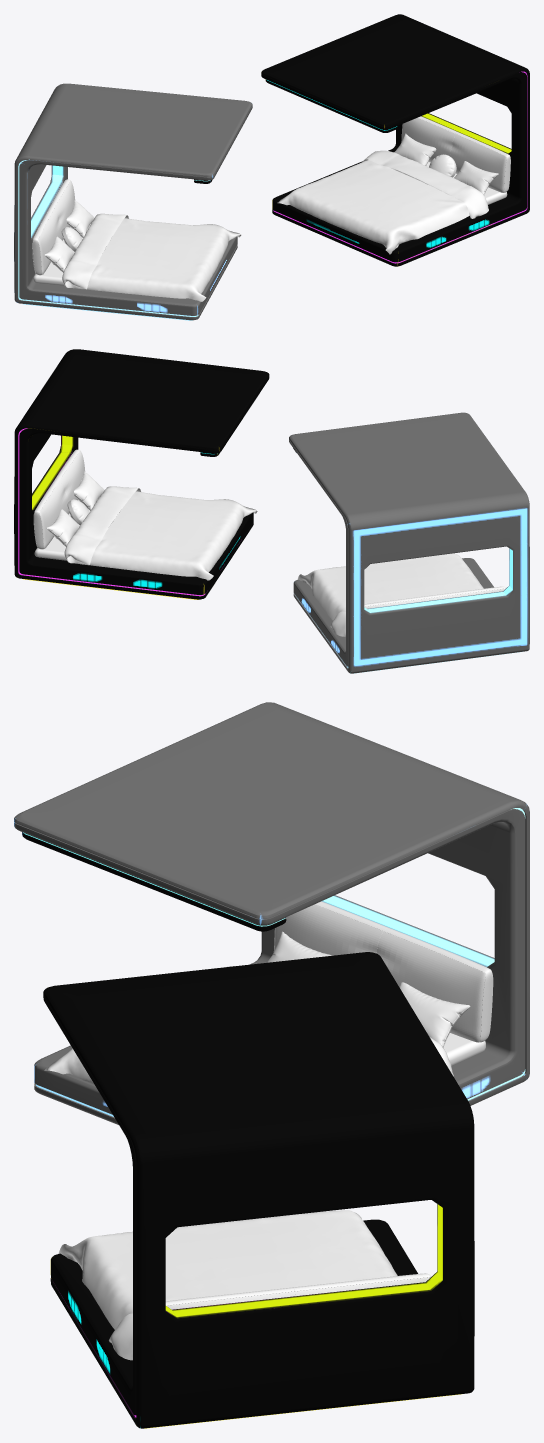
File: scifi_bed.glb
3 views of the same model, one above another, from view 1: azimuth 30°, elevation 25°; view 2: azimuth 150°, elevation 25°; view 3: azimuth 270°, elevation 25° (orthographic). The views are drawn at different scales.
Parts seen in each view (by area): view 1: pasted__pCube6, pasted__pCube5, polySurface46, polySurface44, Box002, Bed_Minotti_Spancer_N130721:Box002, Cube5, Cube4, Cube, Cube1, pCube6, pillow158; view 2: pasted__pCube5, pasted__pCube6, polySurface46, polySurface44, Box002, Bed_Minotti_Spancer_N130721:Box002, Cube5, Cube4, pCube28; view 3: pasted__pCube6, pasted__pCube5, polySurface46, Bed_Minotti_Spancer_N130721:Box002, Box002, Cube, polySurface44, Cube1, pCube6.
Boxes of the visible parts, x1=… form: pasted__pCube6: x1=261, y1=14, x2=529, y2=266; pasted__pCube5: x1=14, y1=83, x2=252, y2=320; polySurface46: x1=277, y1=150, x2=488, y2=254; polySurface44: x1=62, y1=213, x2=241, y2=301; Box002: x1=401, y1=116, x2=510, y2=192; Bed_Minotti_Spancer_N130721:Box002: x1=32, y1=179, x2=75, y2=275; Cube5: x1=454, y1=161, x2=498, y2=194; Cube4: x1=394, y1=133, x2=436, y2=165; Cube: x1=66, y1=200, x2=94, y2=237; Cube1: x1=44, y1=236, x2=74, y2=272; pCube6: x1=33, y1=224, x2=90, y2=285; pillow158: x1=429, y1=154, x2=456, y2=177; pasted__pCube5: x1=289, y1=412, x2=529, y2=673; pasted__pCube6: x1=14, y1=349, x2=269, y2=599; polySurface46: x1=64, y1=486, x2=257, y2=580; polySurface44: x1=297, y1=553, x2=483, y2=636; Box002: x1=33, y1=449, x2=85, y2=549; Bed_Minotti_Spancer_N130721:Box002: x1=364, y1=586, x2=505, y2=608; Cube5: x1=74, y1=471, x2=104, y2=510; Cube4: x1=47, y1=509, x2=79, y2=546; pCube28: x1=34, y1=499, x2=97, y2=560; pasted__pCube6: x1=43, y1=952, x2=474, y2=1428; pasted__pCube5: x1=14, y1=702, x2=529, y2=1124; polySurface46: x1=58, y1=1210, x2=397, y2=1360; Bed_Minotti_Spancer_N130721:Box002: x1=273, y1=901, x2=493, y2=1042; Box002: x1=165, y1=1273, x2=430, y2=1309; Cube: x1=399, y1=982, x2=470, y2=1047; polySurface44: x1=44, y1=966, x2=453, y2=1084; Cube1: x1=267, y1=931, x2=332, y2=962; pCube6: x1=443, y1=1033, x2=485, y2=1065.
Bounding box in the file's own units: 8.32 × 2.48 × 4.02.
3 materials, 2 textured.
